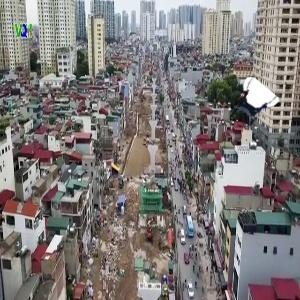drone: (230, 83, 276, 129)
